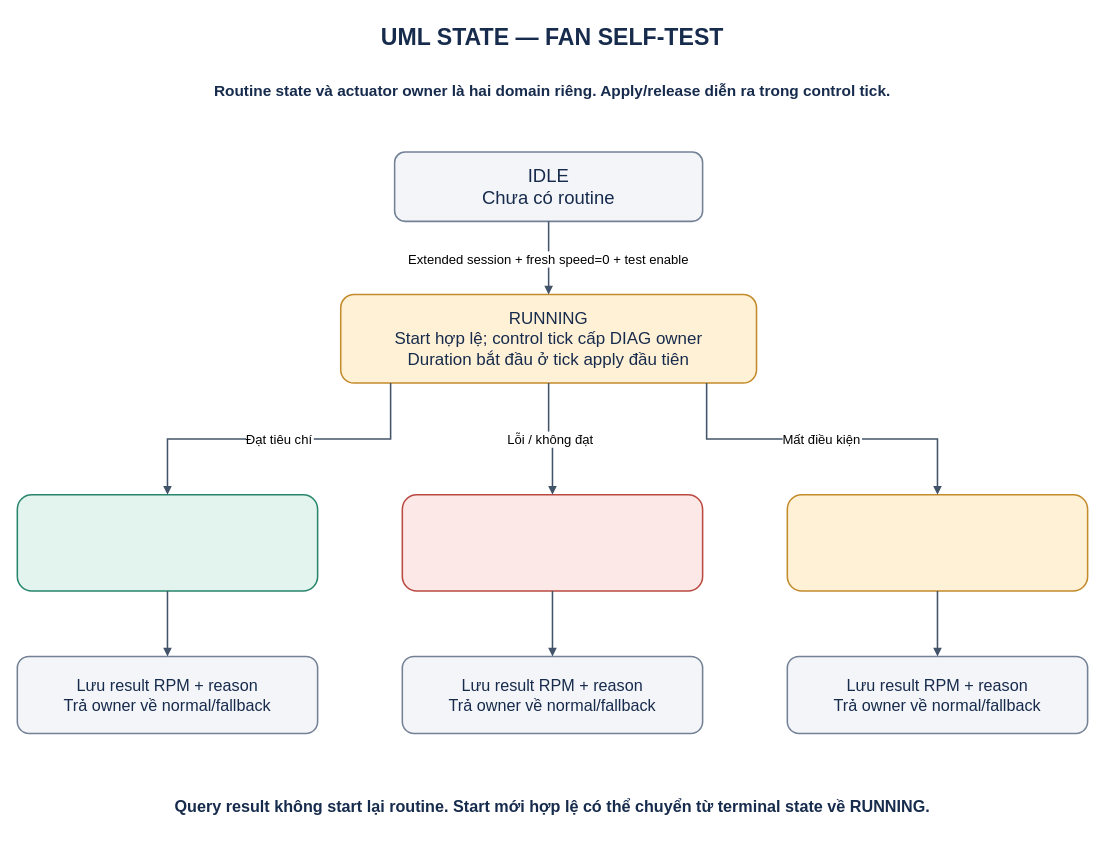
Image size: 1104x846. Some labels were removed from this diagram. Here are the shapes that lost their labels. From the top down, the box of each, then its label:
(16, 494, 318, 591): COMPLETED Hết duration, feedback đạt liên tục ít nhất 100 ms
(401, 494, 703, 591): FAILED Driver fault hoặc feedback không đạt khi hết duration
(786, 494, 1088, 591): ABORTED Stop / speed / stale / session hoặc tester disconnect
